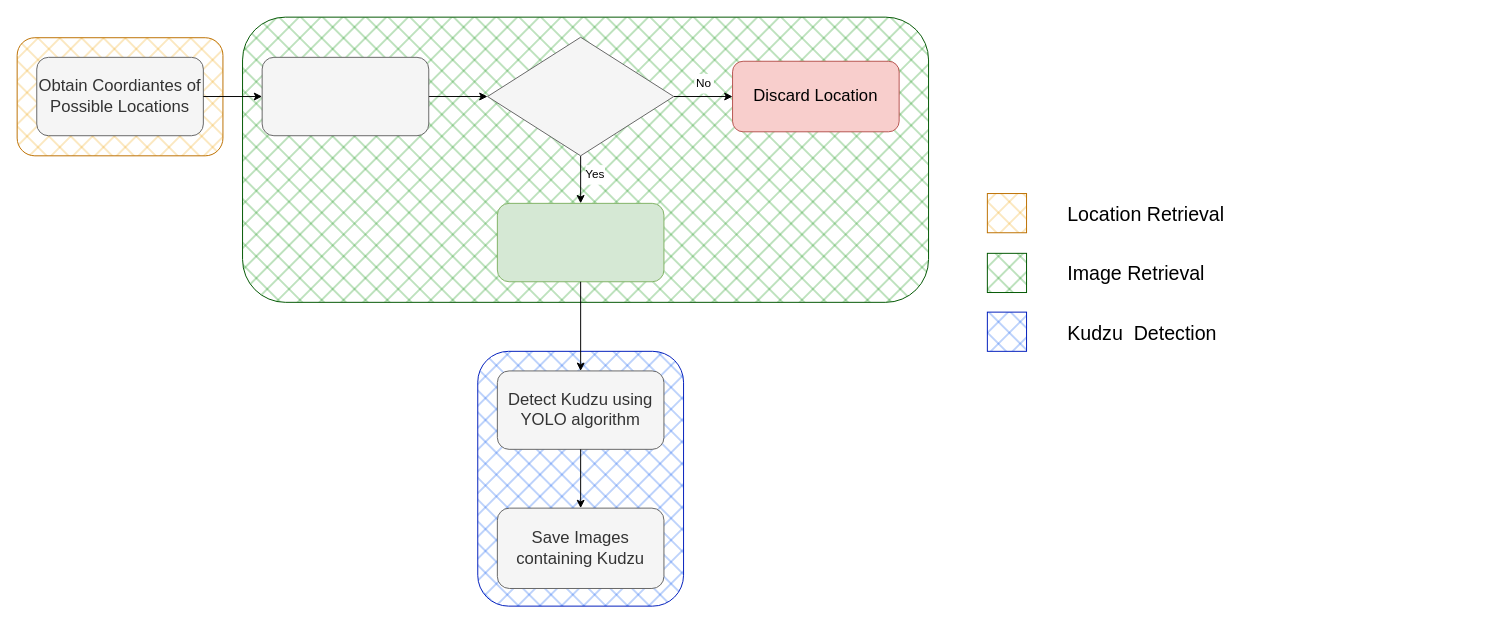
The diagram is 1495 pixels wide and 623 high, and some of its shapes have lost their labels. The shapes that lost their labels are listed below. From the top down, each one's centre as x and y in pixels, then its label:
At [345,96]: "Retrieve GSV Images at each Location".
At [580,96]: "Do Images have Imagery?".
At [580,242]: "Save all Images at Location".
